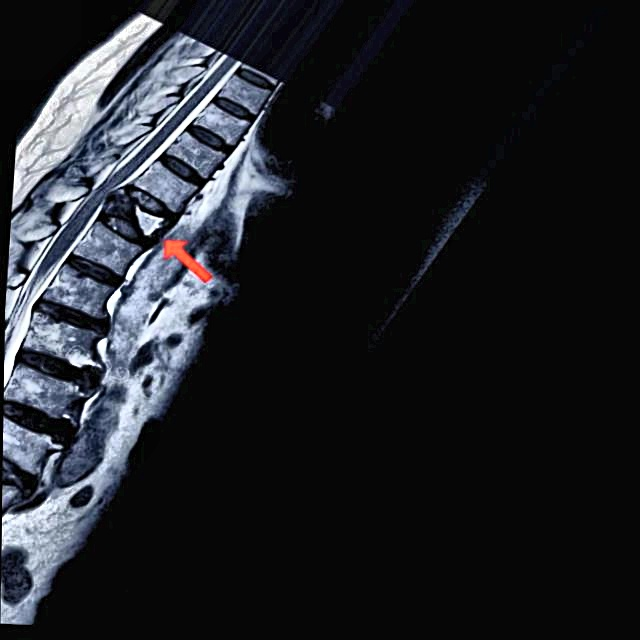Comminuted: (89, 174, 186, 251)
